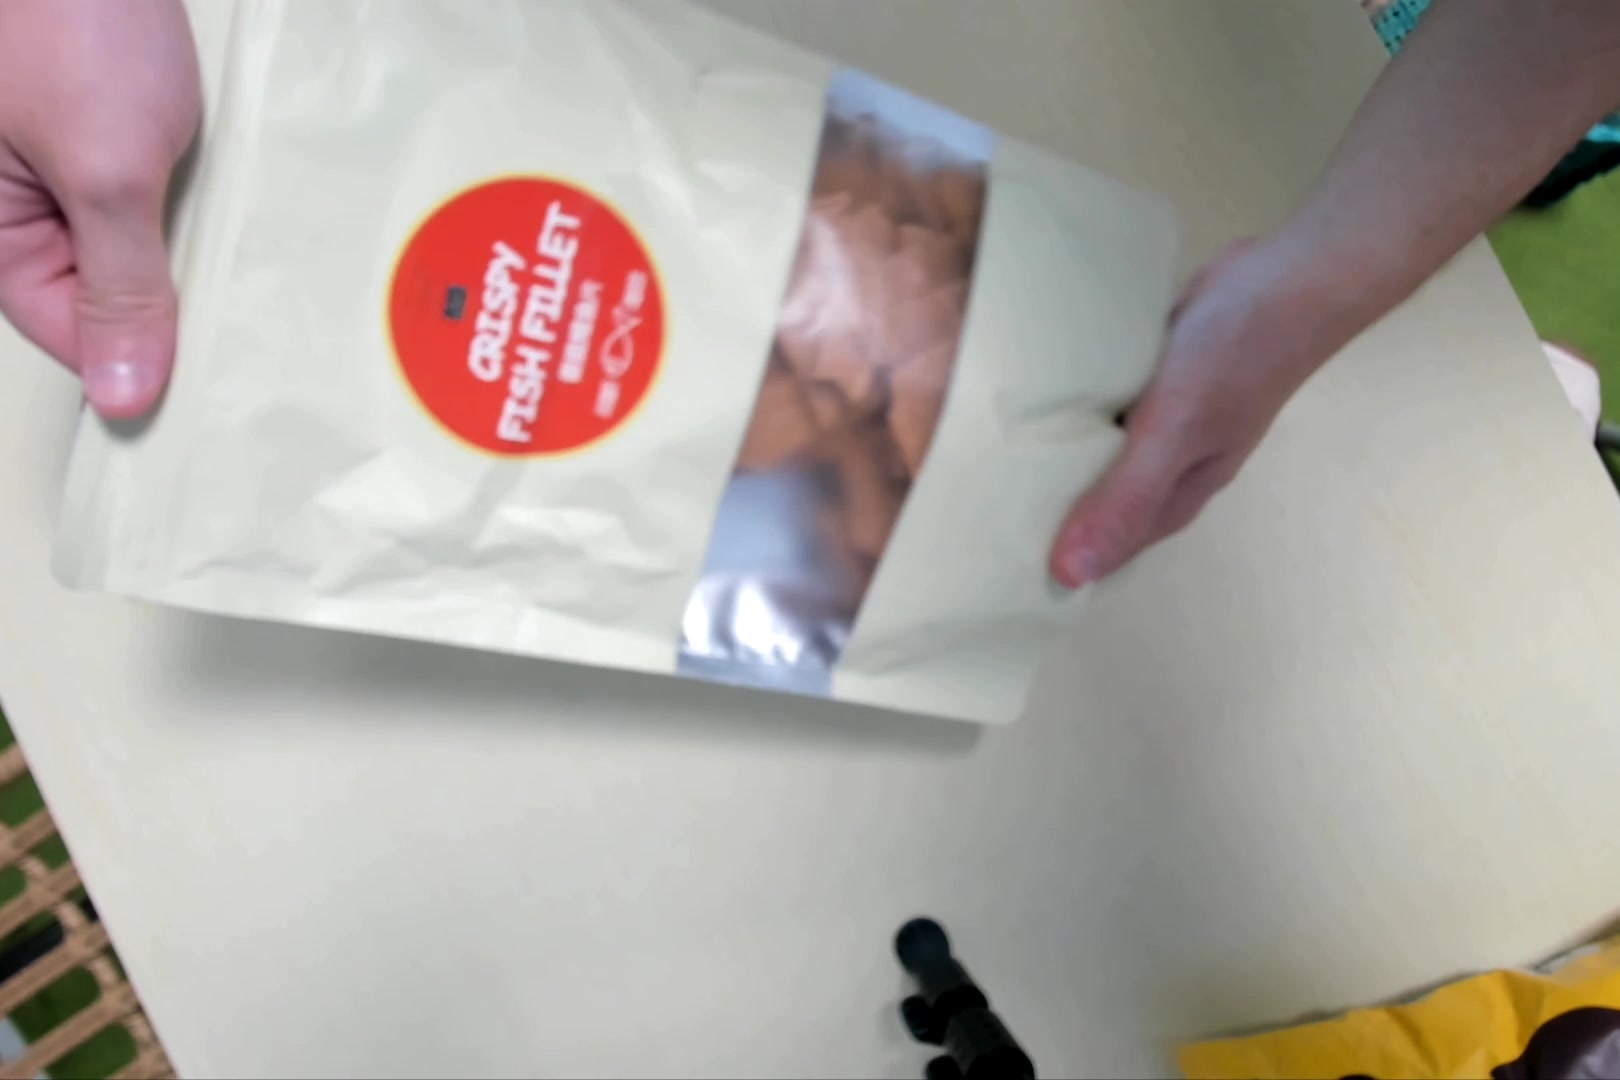PotatoChipsKeropok_100-199g_NonHalal_NonHealthy: (101, 1, 1184, 757)
